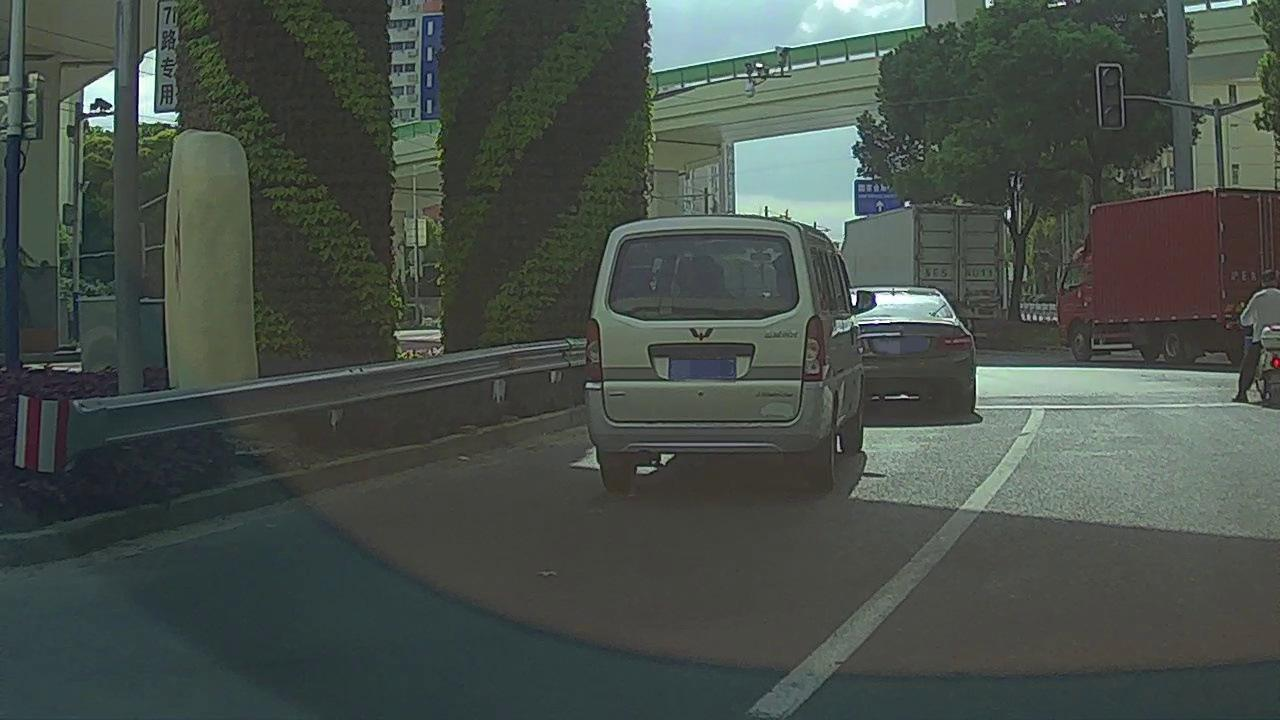traffic_light: (1097, 66, 1122, 127)
